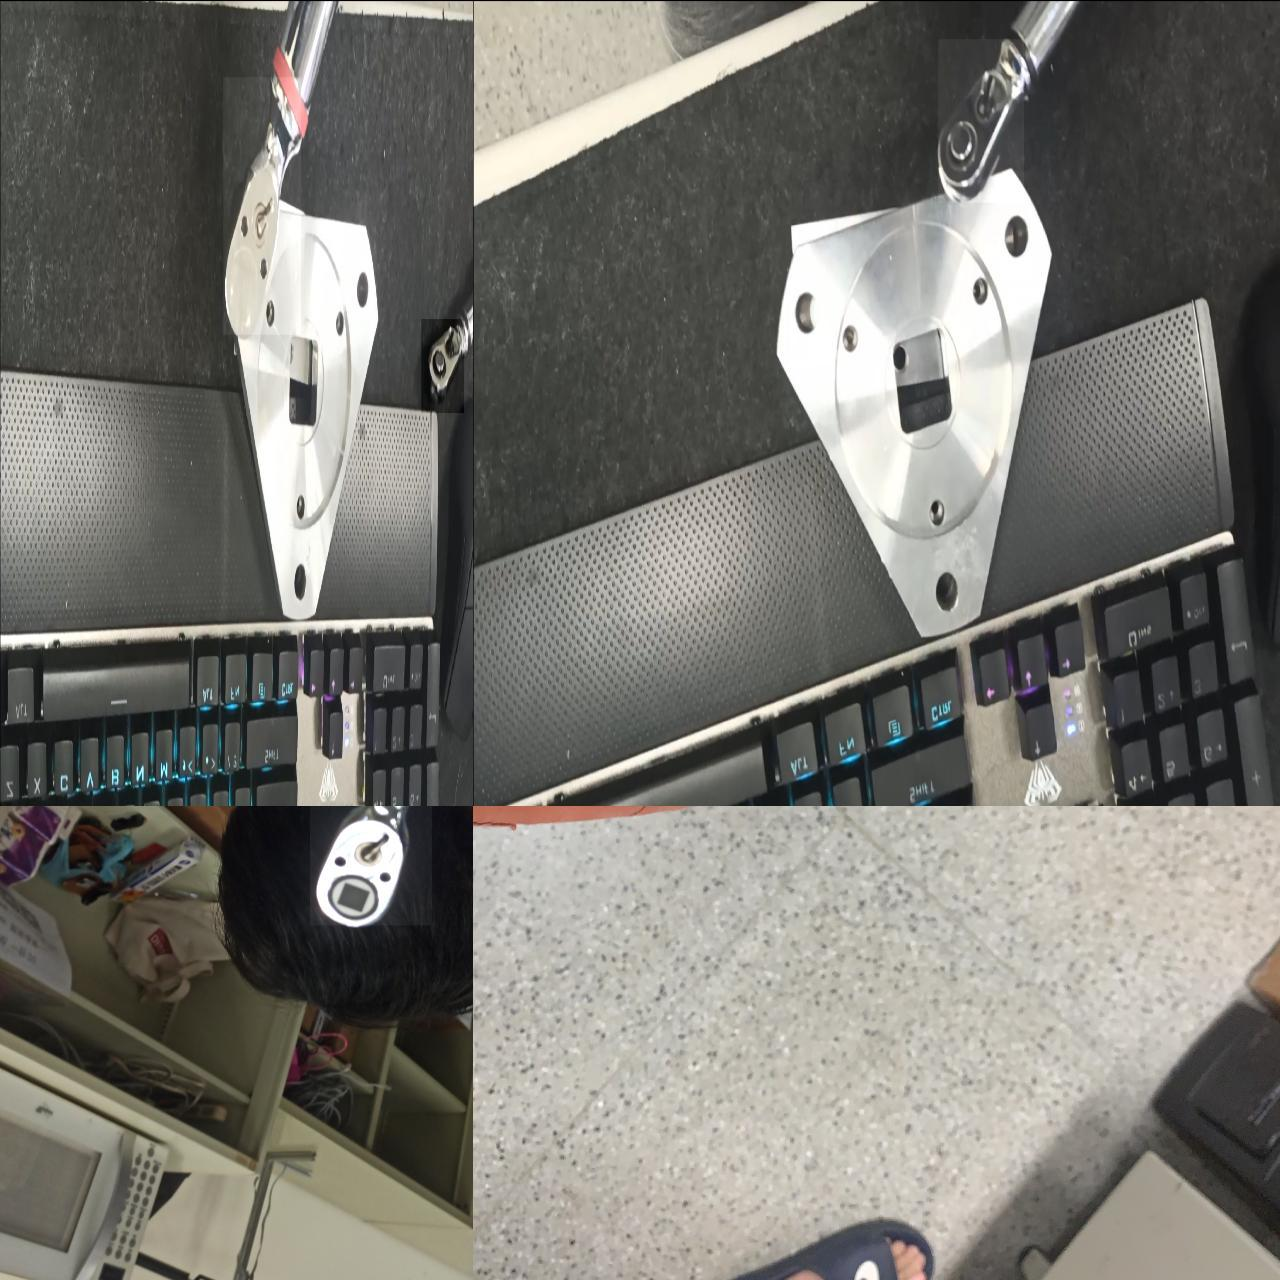Tool: (223, 76, 300, 334), (309, 806, 431, 925), (938, 38, 1023, 202), (421, 318, 464, 411)
hole: (789, 291, 822, 343), (928, 564, 958, 618), (994, 216, 1029, 259), (346, 266, 374, 319), (966, 275, 993, 308), (293, 558, 308, 612), (838, 324, 859, 355), (259, 297, 277, 331), (930, 498, 948, 529), (290, 490, 307, 520), (331, 311, 348, 336)
